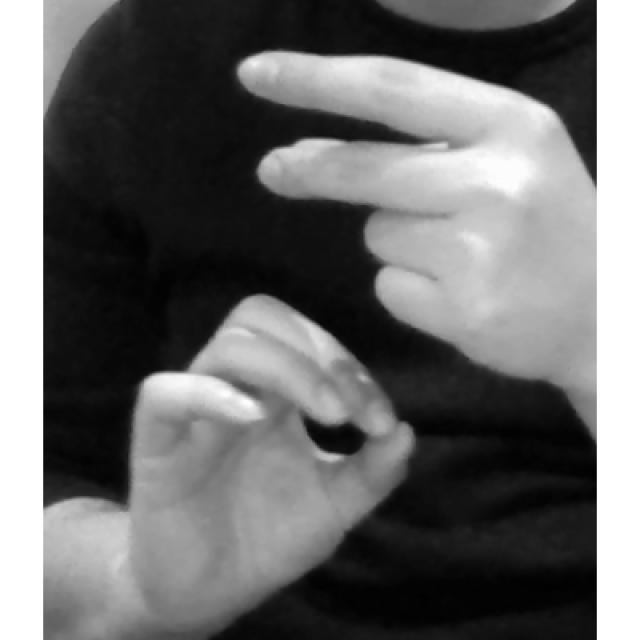O--: (126, 41, 594, 640)
